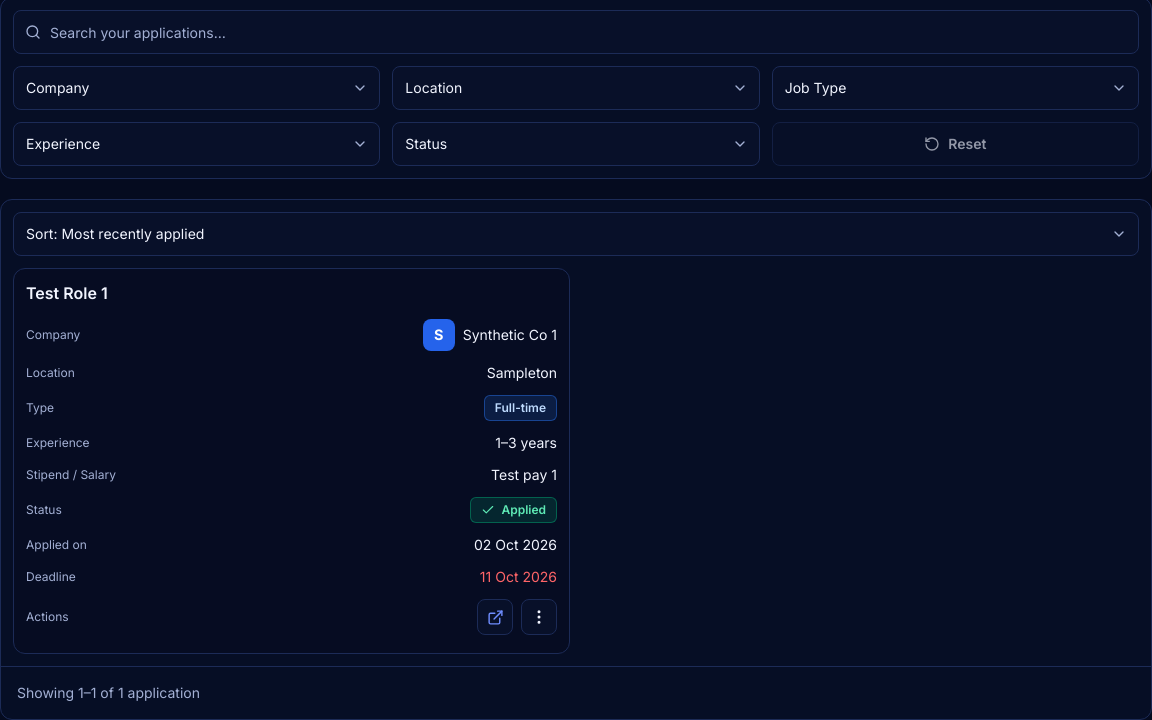
My Applications: updating status › View details opens the job's full details read-only for this member
(page scrolled)
What coordinates should you click on to do the following:
click the button named "More actions: Test Role 1"
I would click on:
 (539, 617)
Its box is x1=521 y1=599 x2=557 y2=635.
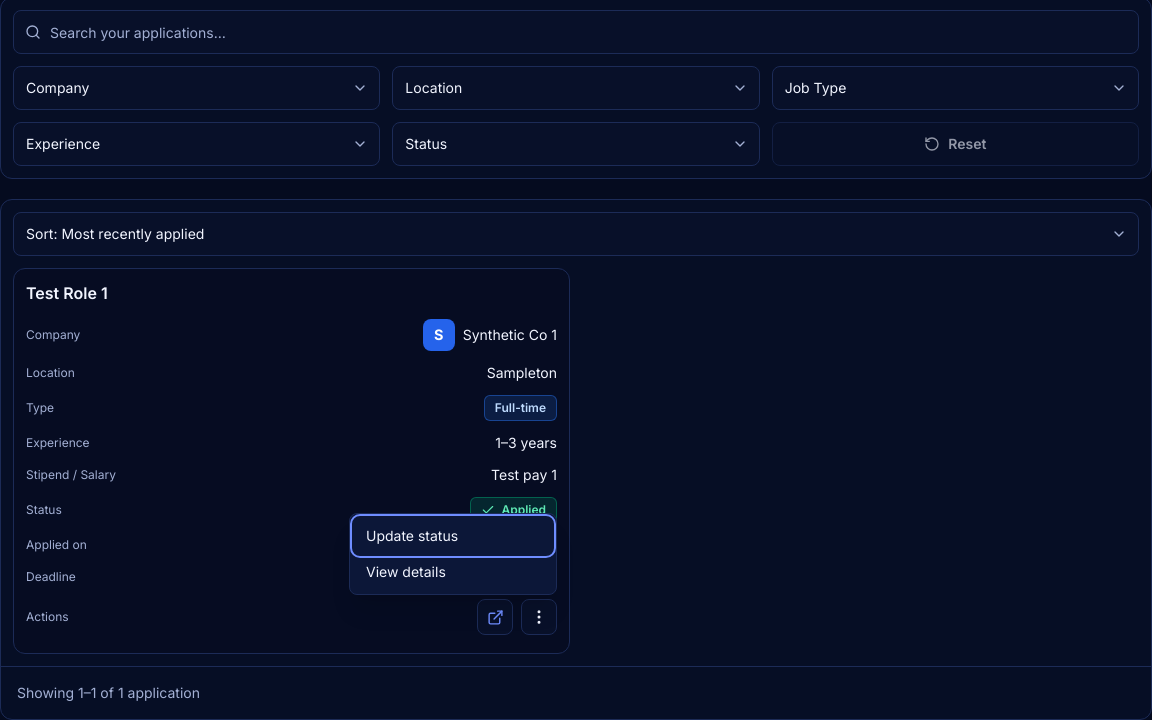
What coordinates should you click on to do the following:
click the menu item "View details"
I would click on:
 (453, 572)
Its box is x1=354 y1=554 x2=552 y2=590.
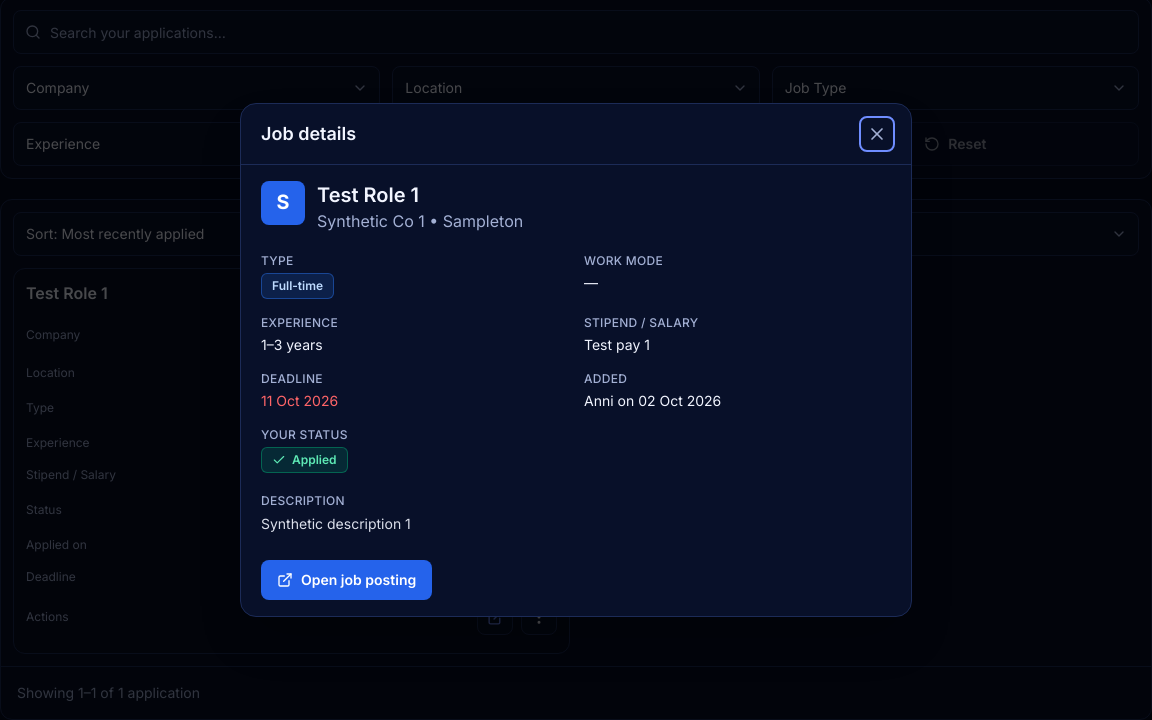
Expected: the text "Synthetic description 1" is shown, x1=261 y1=515 x2=411 y2=532
